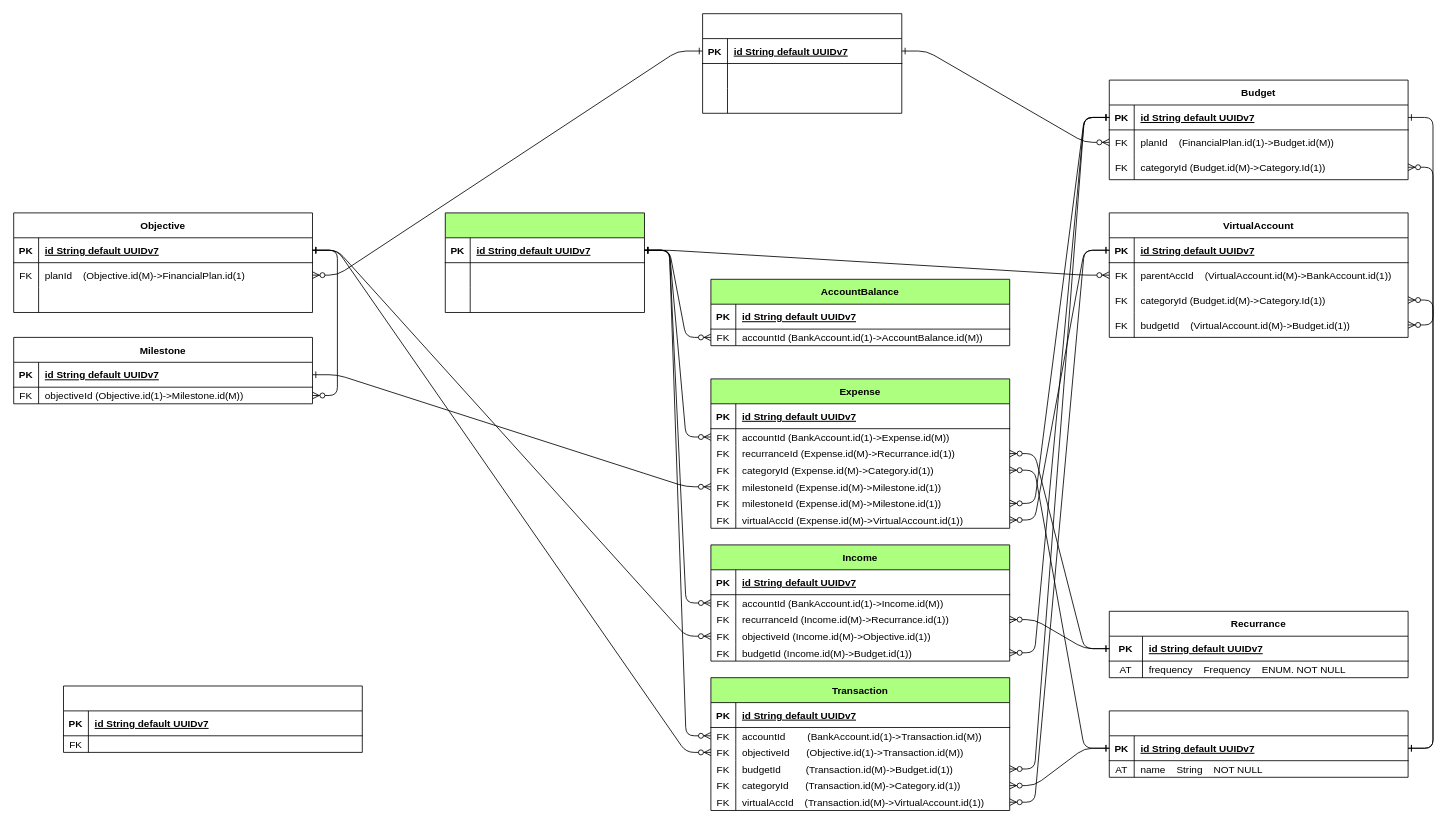
The diagram is 1447 pixels wide and 824 high, and some of its shapes have lost their labels. The shapes that lost their labels are listed below. From the top down, each one's box as (x1, y1, x2, y2) in pixels, then its label:
(702, 13, 902, 113): FinancialPlan
(444, 212, 644, 312): BankAccount
(63, 685, 362, 752): Debt
(1108, 710, 1408, 777): Category
